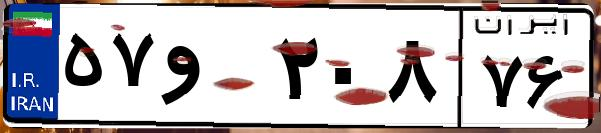0: (330, 28, 385, 110)
2: (270, 28, 330, 110)
5: (57, 26, 110, 100)
6: (525, 38, 570, 115)
7: (475, 38, 525, 113), (110, 28, 158, 98)
8: (385, 28, 445, 110)
و: (158, 20, 270, 120)
